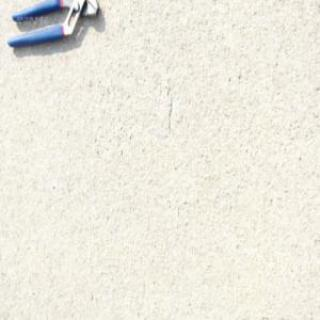Pliertrack_idkeyframe: (6, 0, 101, 48)
